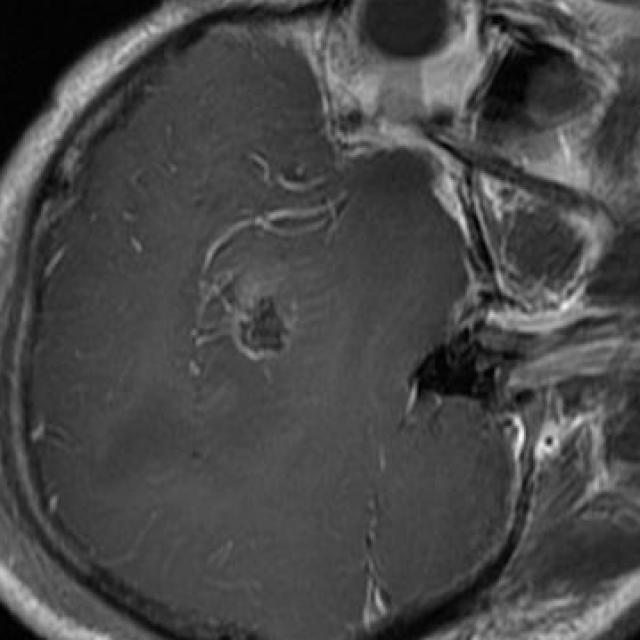glioma: (232, 271, 291, 362)
